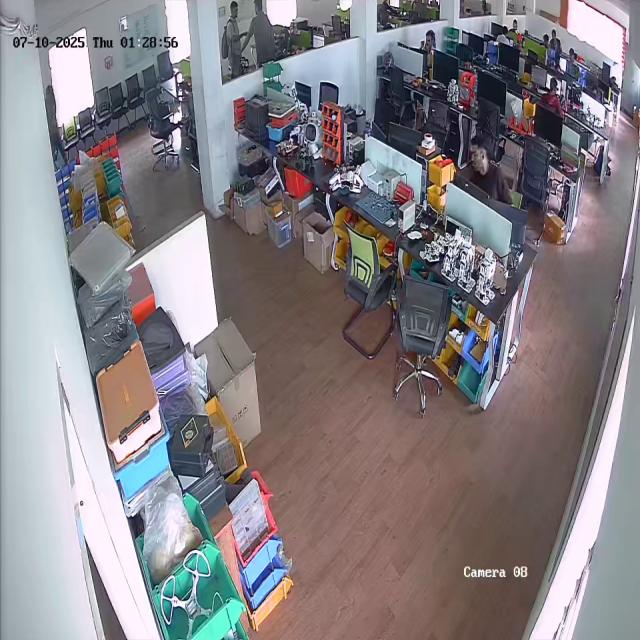person: (462, 135, 513, 209), (246, 0, 276, 63), (221, 1, 244, 78)
